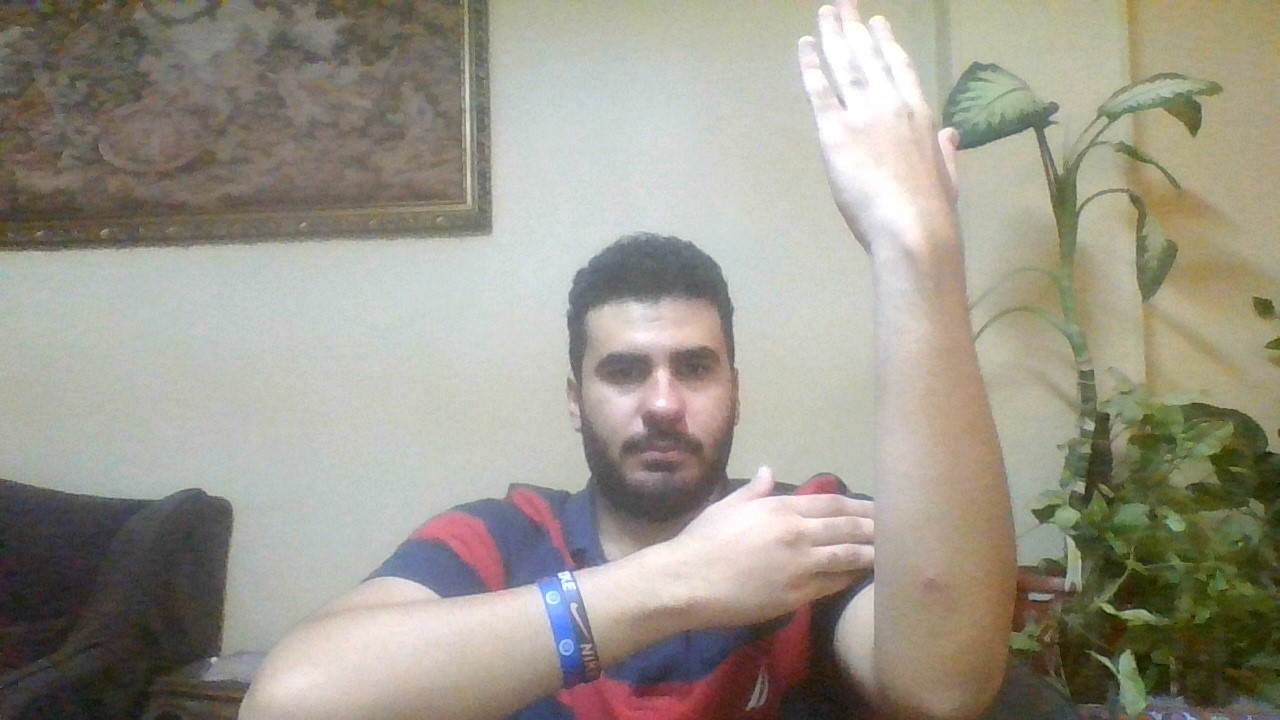morning: (683, 1, 1023, 720)
